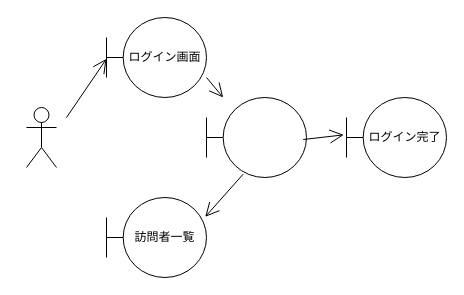
This 464x295 diagram has some shape labels left out. The shapes that lost their labels are listed below. From the top down, each one's centre as x and y in pixels, then its label:
the point at 41,137: ユーザー
the point at 256,137: ログイン 環境画面
